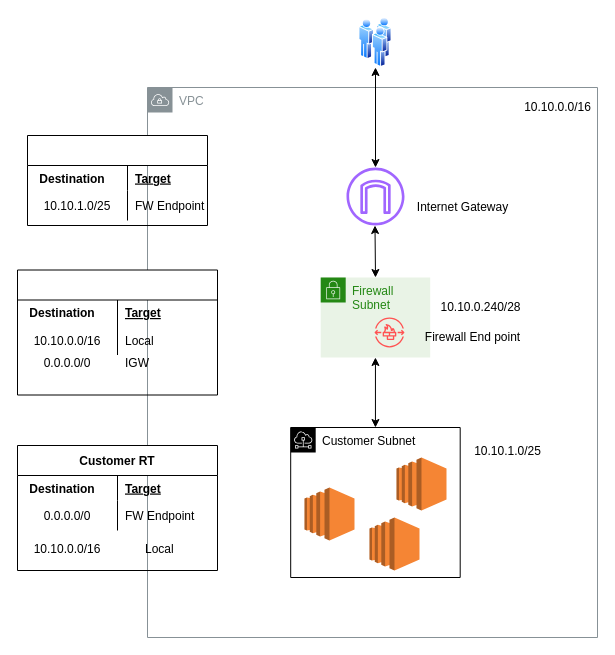
This 615x655 diagram has some shape labels left out. Each missing label, with the box of its shape:
Firewall RT: (16, 269, 218, 395)
Internet RT: (26, 134, 208, 226)
